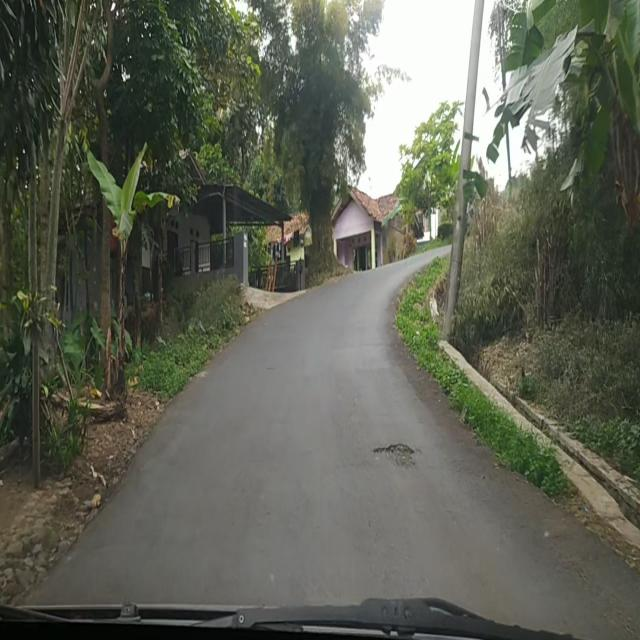Drain Hole: (376, 438, 418, 470)
